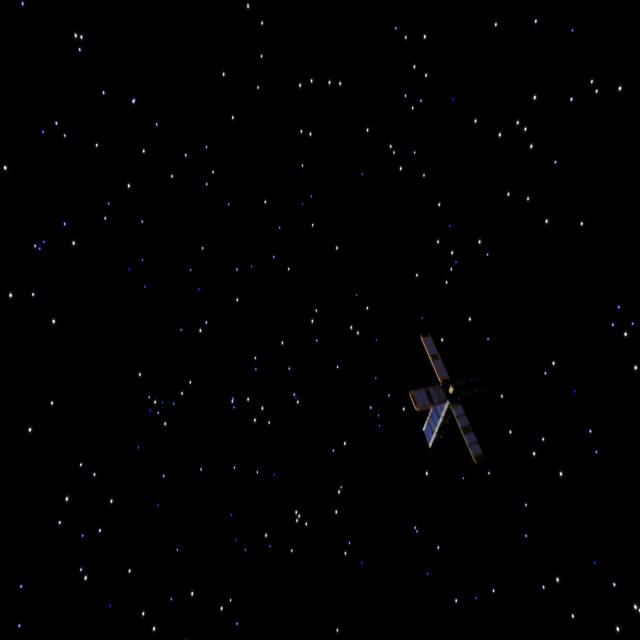satellite: (408, 330, 489, 476)
